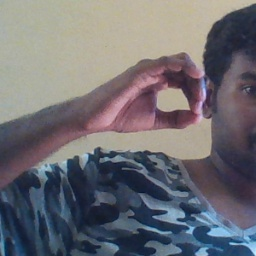O: (80, 48, 208, 137)
